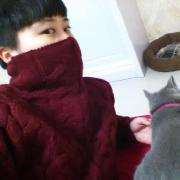OK: (17, 15, 84, 82)
